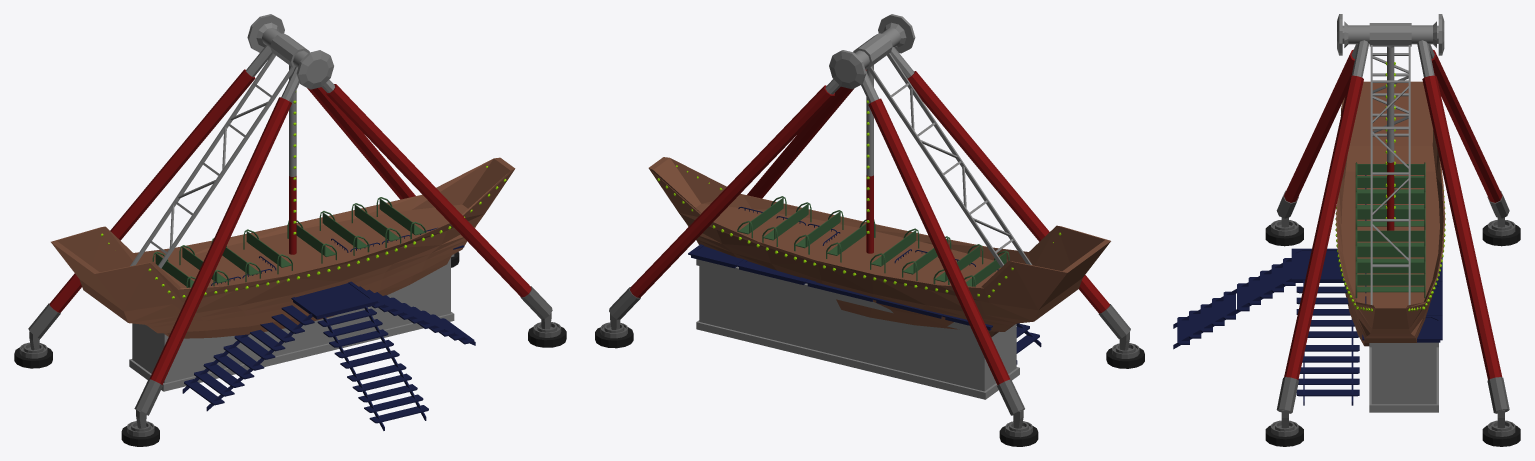
Rendered from SM_pirateship_full.fbx.
3 renders of one model, left to right at view 1: azimuth 30°, elevation 25°; view 2: azimuth 150°, elevation 25°; view 3: azimuth 270°, elevation 25°, orthographic.
Parts seen in each view (by area): view 1: Line010; view 2: Line010; view 3: Line010.
Boxes of the visible parts, left/top/right/bottom form: Line010: left=14, top=14, right=566, bottom=446; Line010: left=595, top=14, right=1144, bottom=446; Line010: left=1173, top=14, right=1520, bottom=446.
Size of the model in its own units: 840 by 579 by 568.
